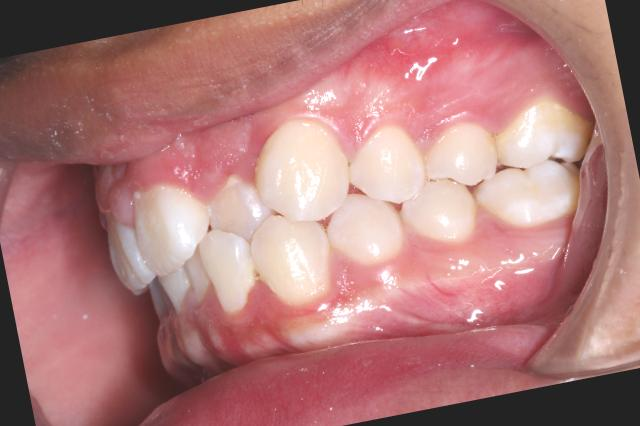canine class II 1/4: (222, 94, 416, 328)
molar class III 1/2: (458, 89, 609, 250)
